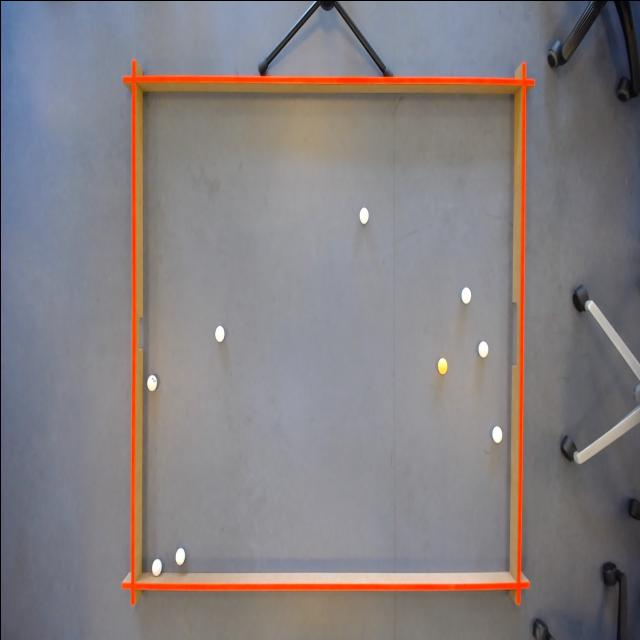orange_ball: (437, 356, 447, 374)
white_ball: (144, 372, 158, 394), (150, 556, 162, 578), (173, 544, 185, 566), (490, 423, 502, 444), (476, 338, 488, 359), (459, 284, 472, 303), (213, 322, 224, 342), (357, 204, 368, 224)
